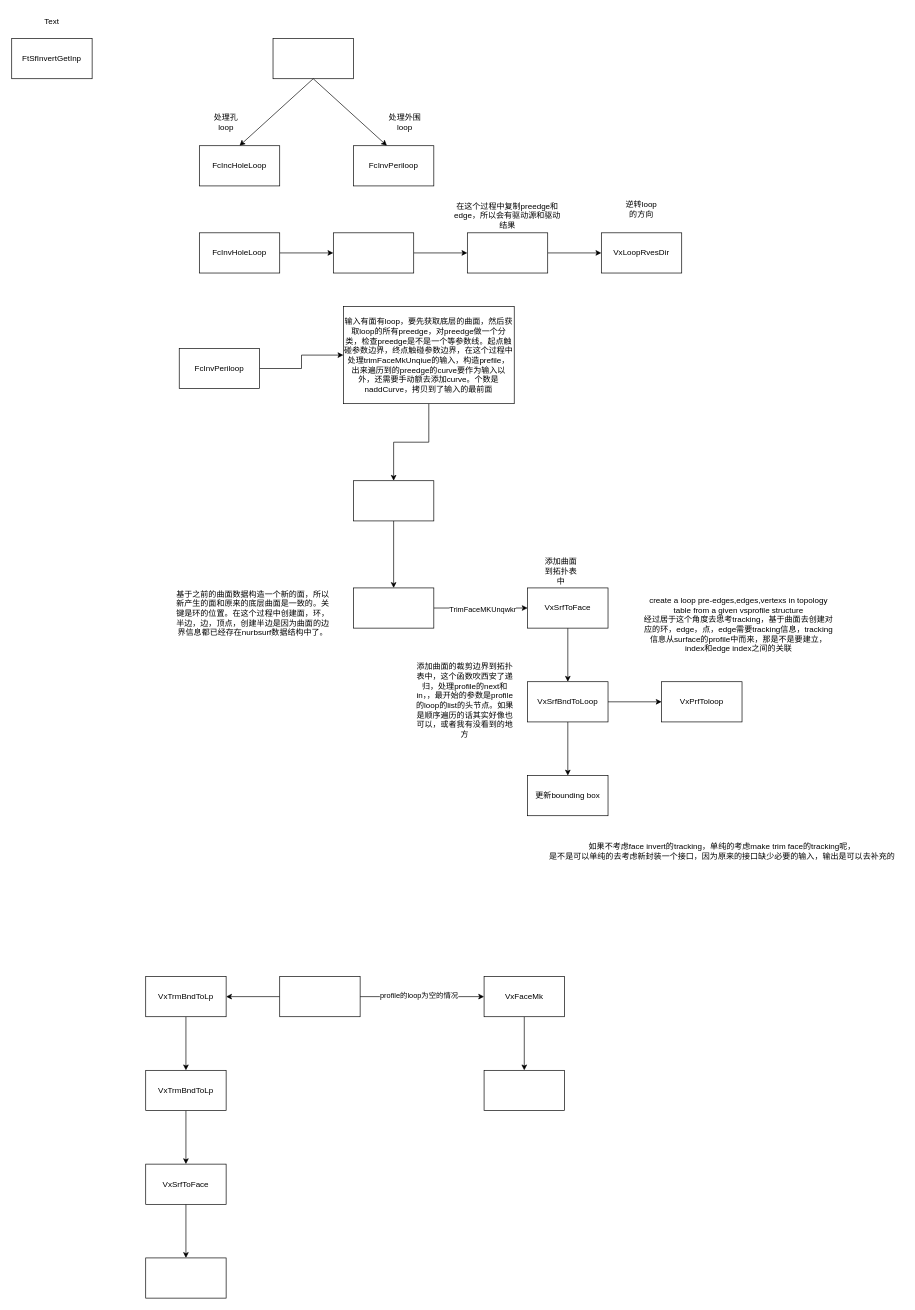
The diagram is 915 pixels wide and 1310 high, and some of its shapes have lost their labels. The shapes that lost their labels are listed below. From the top down, each one's centre as x and y in pixels, then its label:
At [312,58]: "VxFaceInvert".
At [373,252]: "复制面，复制相应的曲面".
At [507,252]: "VxLoopcpy".
At [393,500]: "VxShlMk".
At [393,607]: "trmFaceMkUnique".
At [319,996]: "VxTrmFaceMk".
At [523,1090]: "VxUnTrimSrfTolp".
At [185,1277]: "VxFaceAddLoop".
